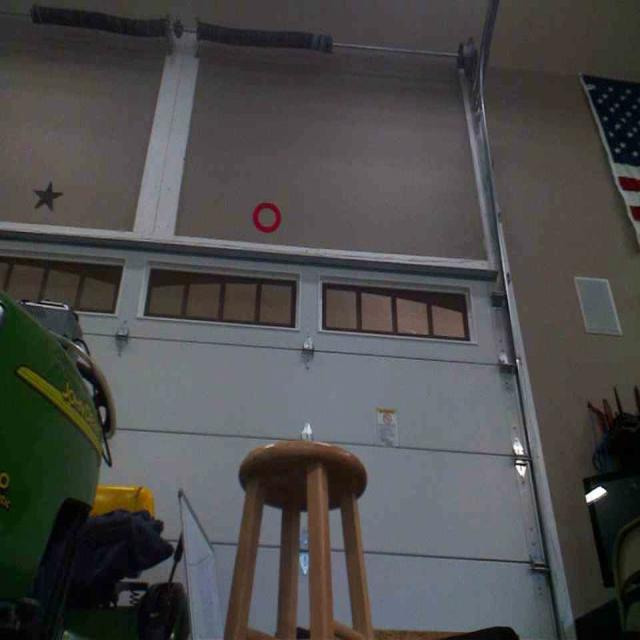ring_red: (250, 198, 282, 233)
star_black: (30, 178, 64, 214)
